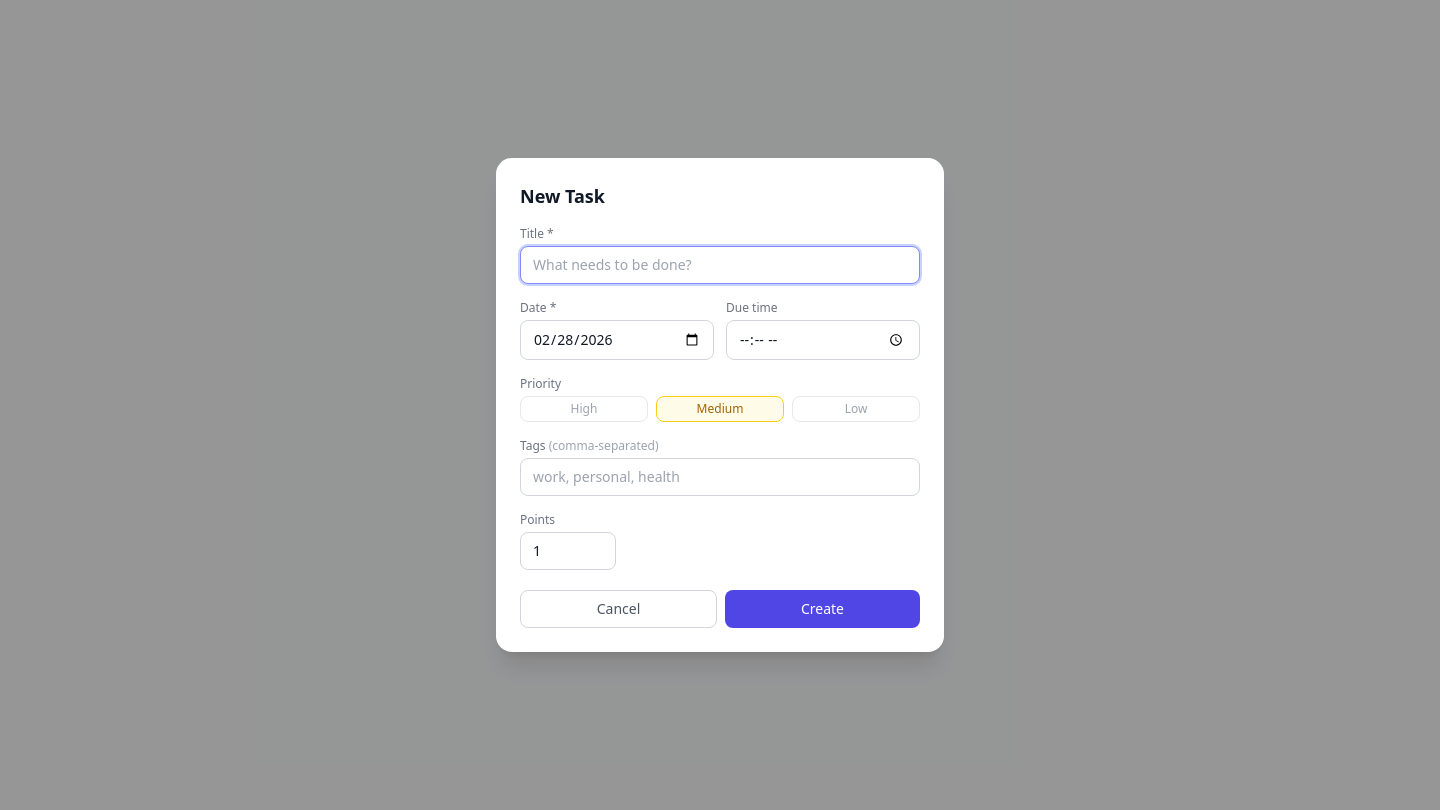
TaskForm — create mode › shows validation error when title is empty
Click the button "Create": [822, 609] box [725,590,920,628]
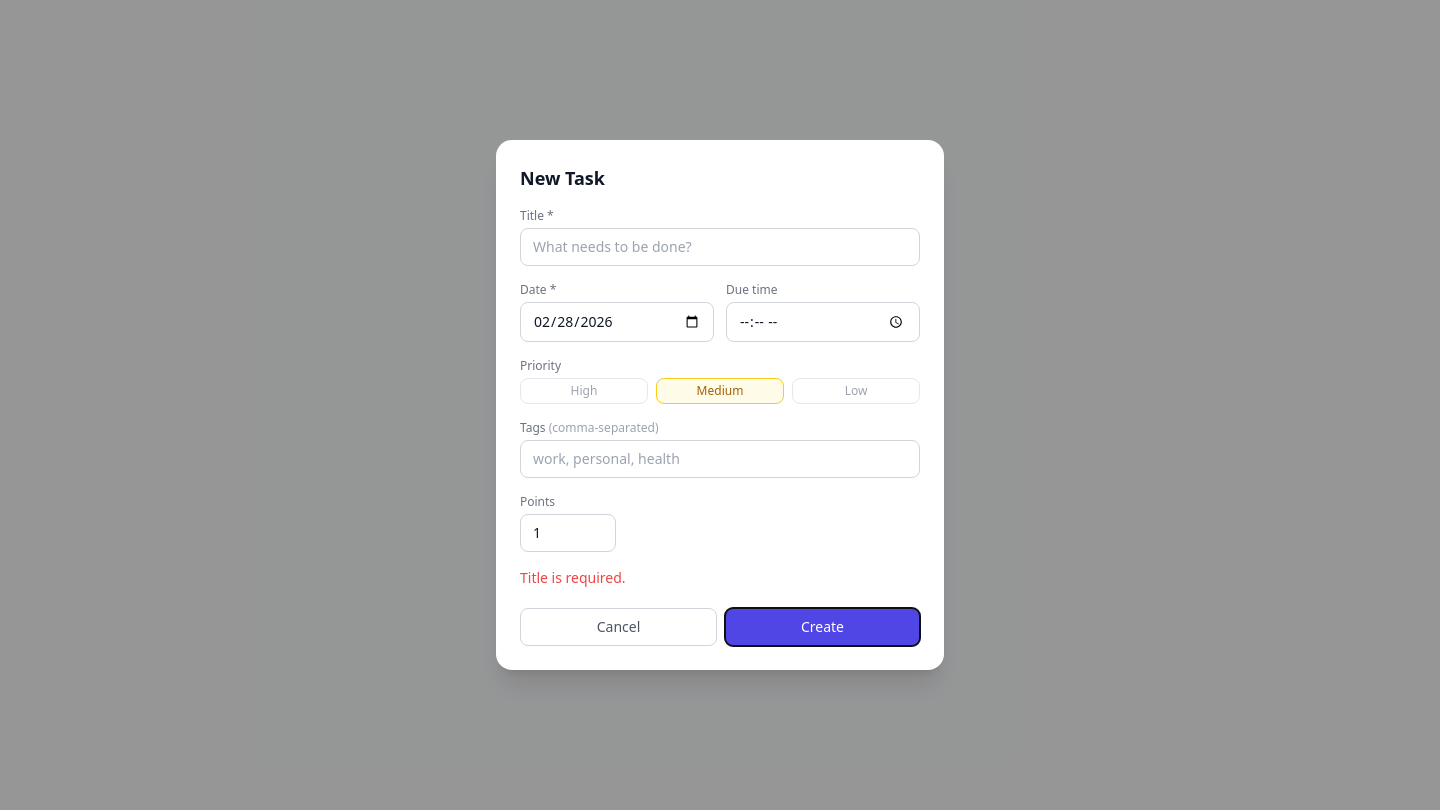
Check: the text "Title is required." is shown, box [520,568,626,587]
